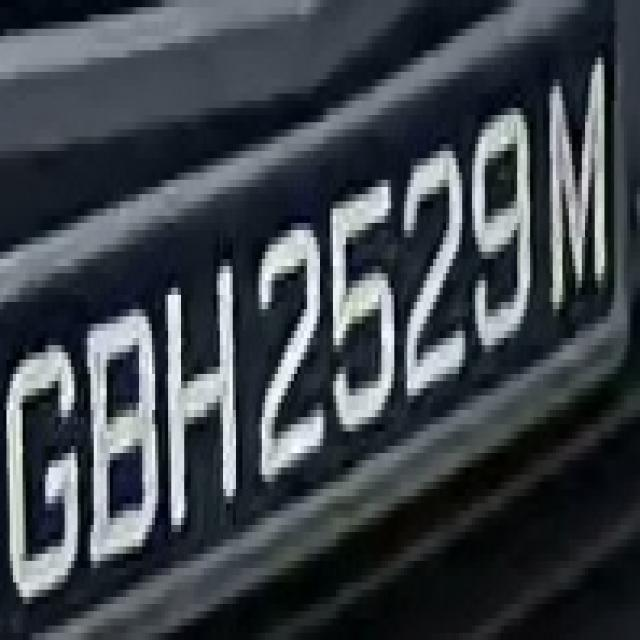2: (252, 216, 333, 496), (394, 151, 478, 417)
5: (330, 180, 410, 453)
9: (459, 93, 533, 374)
B: (71, 302, 165, 575)
G: (3, 324, 88, 611)
H: (165, 274, 246, 540)
M: (540, 58, 620, 309)
